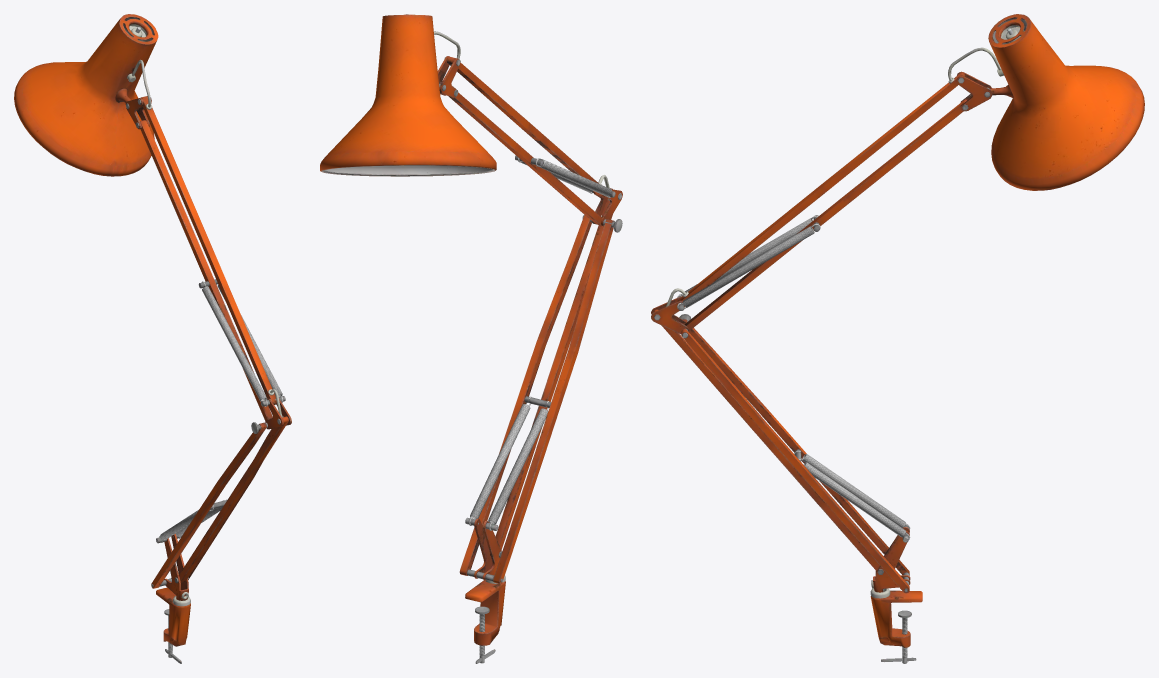
File: desk_lamp_arm_01.glb
3 renders of one model, left to right at view 1: azimuth 30°, elevation 25°; view 2: azimuth 150°, elevation 25°; view 3: azimuth 270°, elevation 25°, orthographic. The views are drawn at different scales.
Visible parts, largest first — view 1: desk_lamp_arm_01; view 2: desk_lamp_arm_01; view 3: desk_lamp_arm_01.
Boxes of the visible parts, x1=… form: desk_lamp_arm_01: x1=14, y1=14, x2=291, y2=663; desk_lamp_arm_01: x1=320, y1=14, x2=622, y2=663; desk_lamp_arm_01: x1=651, y1=14, x2=1144, y2=663.
Bounding box in the file's own units: 0.2017 × 0.8926 × 0.6139.
2 materials, 2 textured.
